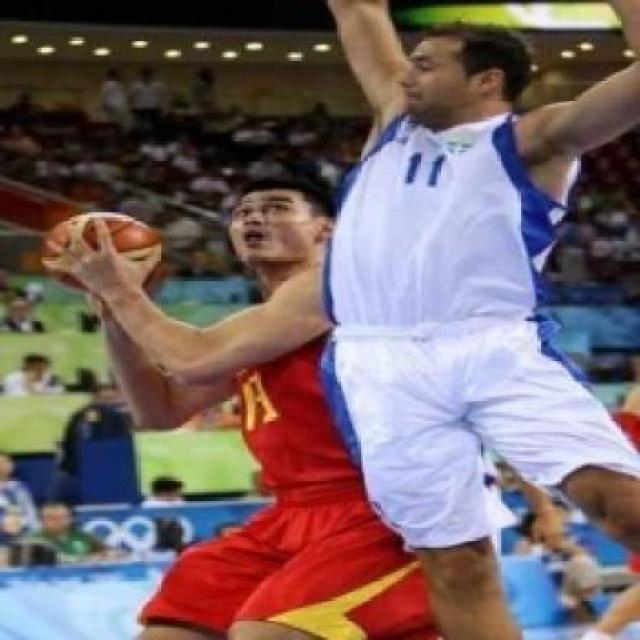basketball: (38, 204, 154, 298)
